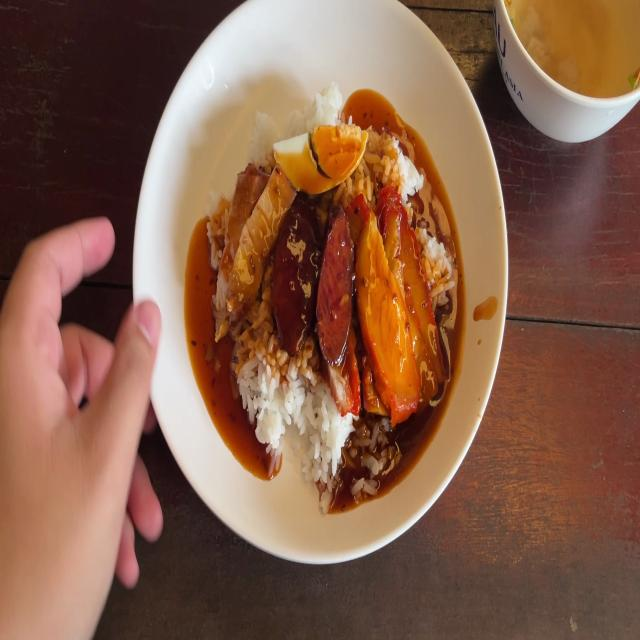red_pork_and_crispy_pork: (277, 125, 371, 188)
stir_fried_basil: (268, 202, 354, 351), (314, 213, 356, 362), (270, 209, 319, 330)
